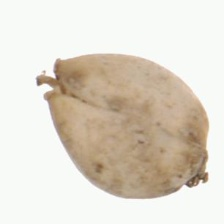L1: (33, 57, 77, 101), (181, 144, 210, 188)
L2: (36, 53, 210, 200)
